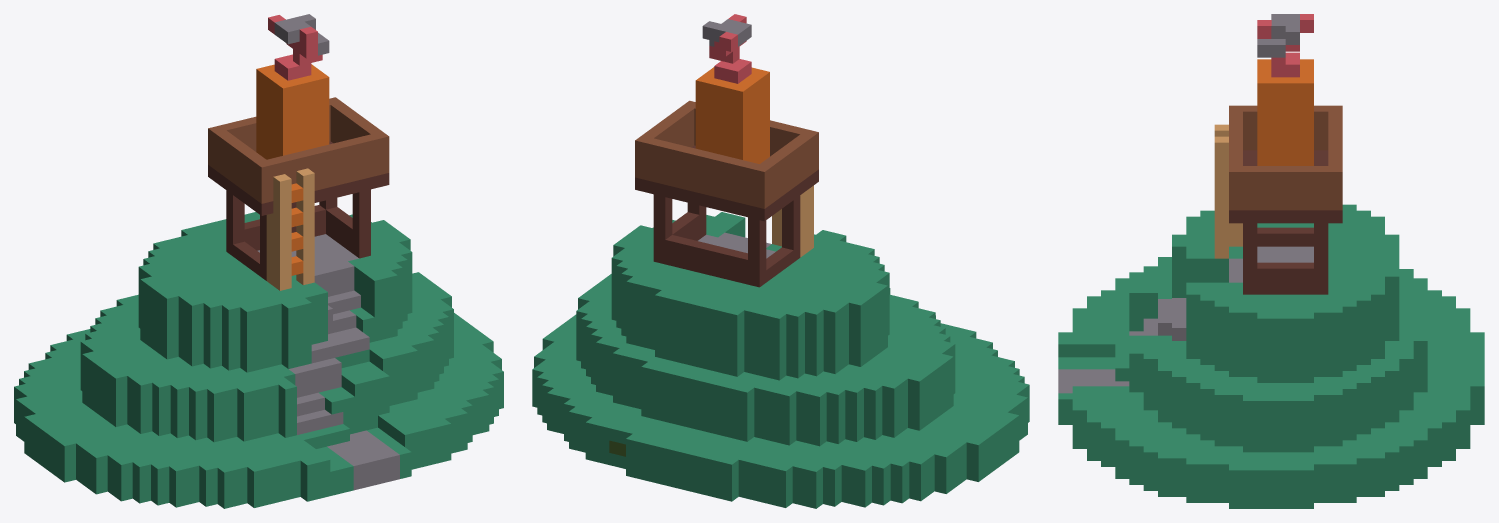
The model's file is scout_tower_no_ground.obj.
The picture shows the model from 3 angles, left to right: view 1: azimuth 30°, elevation 25°; view 2: azimuth 150°, elevation 25°; view 3: azimuth 270°, elevation 25°; orthographic projection. The views are drawn at different scales.
Size of the model in its own units: 3.7 by 3.1 by 3.
Materials: 1 (1 with a texture image).
